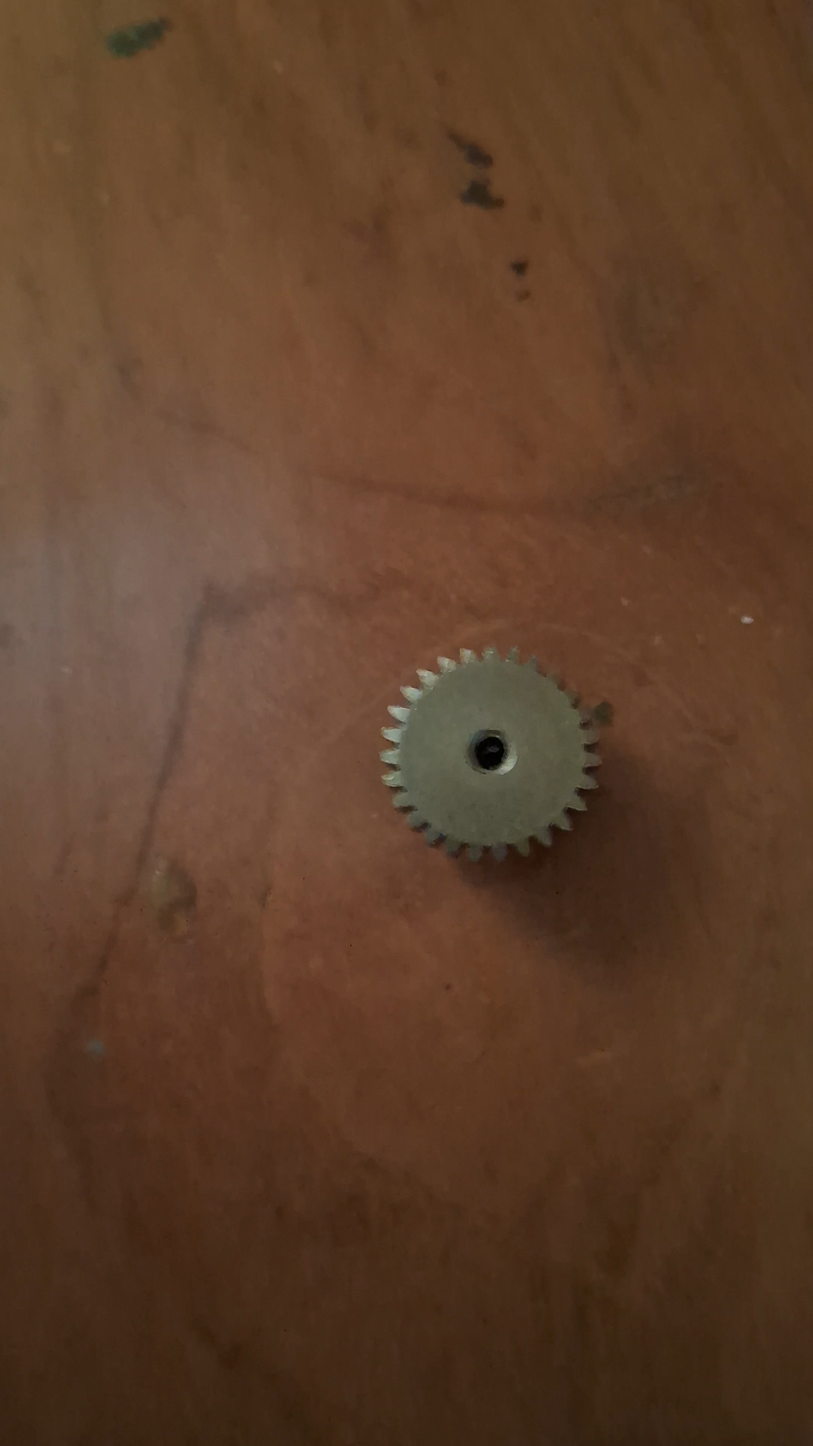spur gear: (381, 648, 599, 859)
